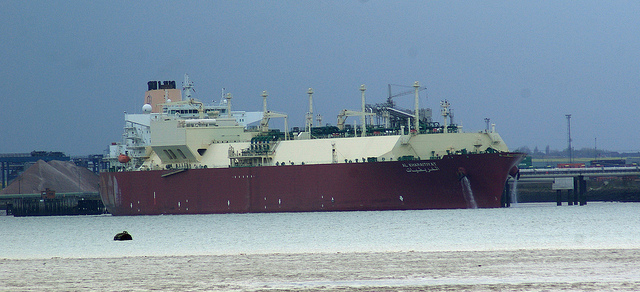LNG_ship: (101, 78, 529, 212)
